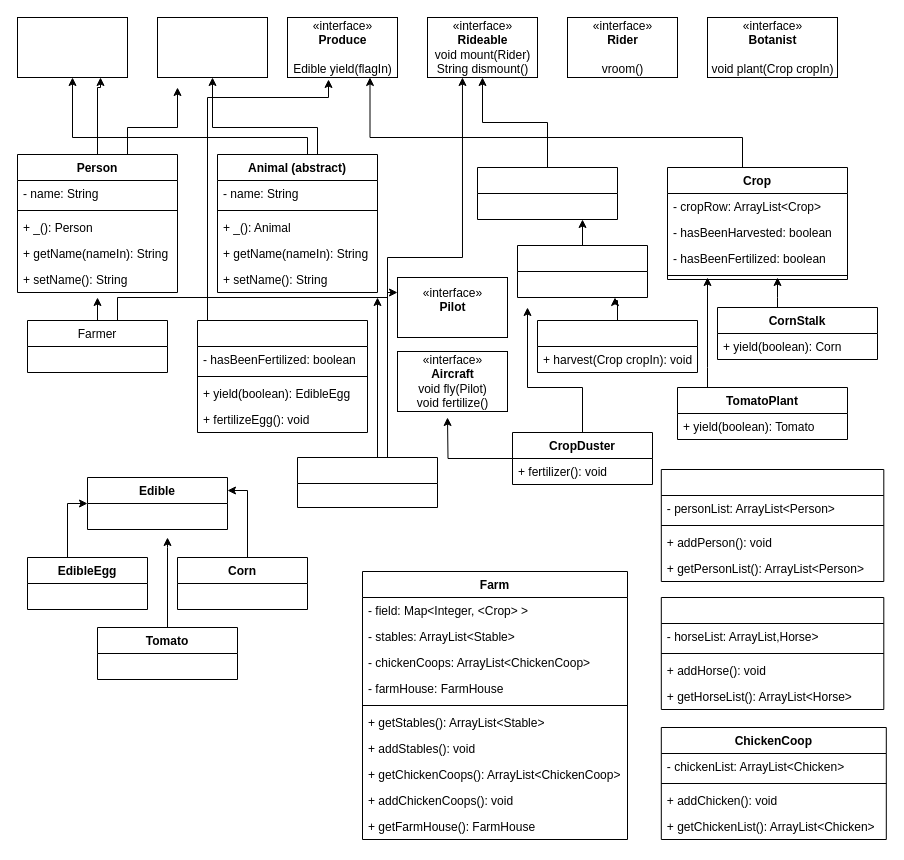
This 904x860 diagram has some shape labels left out. Each missing label, with the box of its shape:
Chicken: (196, 320, 368, 432)
FarmHouse: (660, 468, 884, 582)
FarmVehicle: (516, 244, 648, 298)
Horse: (296, 456, 438, 508)
Stable: (660, 596, 884, 710)
Tractor: (536, 320, 698, 372)
Vehicle (abstract): (476, 166, 618, 220)
«interface» Eater void eat(): (156, 16, 268, 78)
«interface» NoiseMaker makeNoise(): (16, 16, 128, 78)
